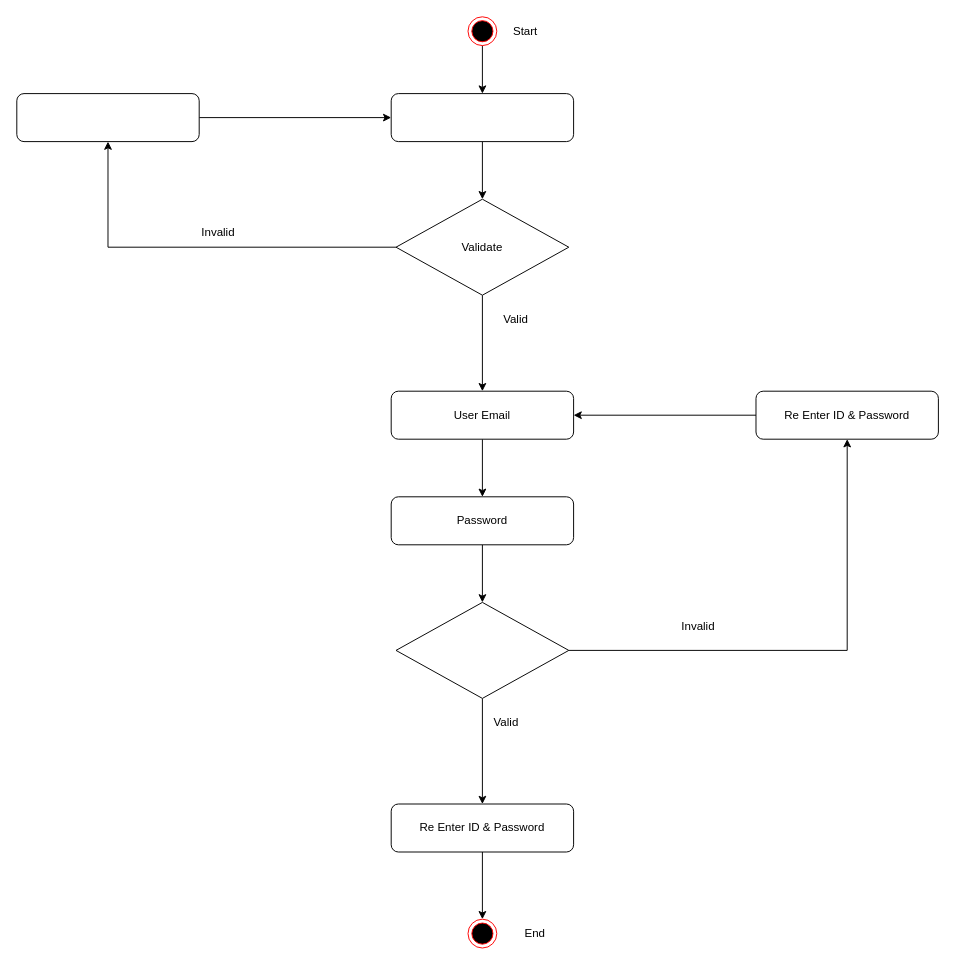
Some shapes in this 955 by 965 pixel diagram are drawn without their labels. The centre of each missing label's shape, as x and y in pixels:
"Re Enter Details" belongs at point 107,117.
"Registration" belongs at point 482,117.
"Validate ID & Password" belongs at point 482,649.
